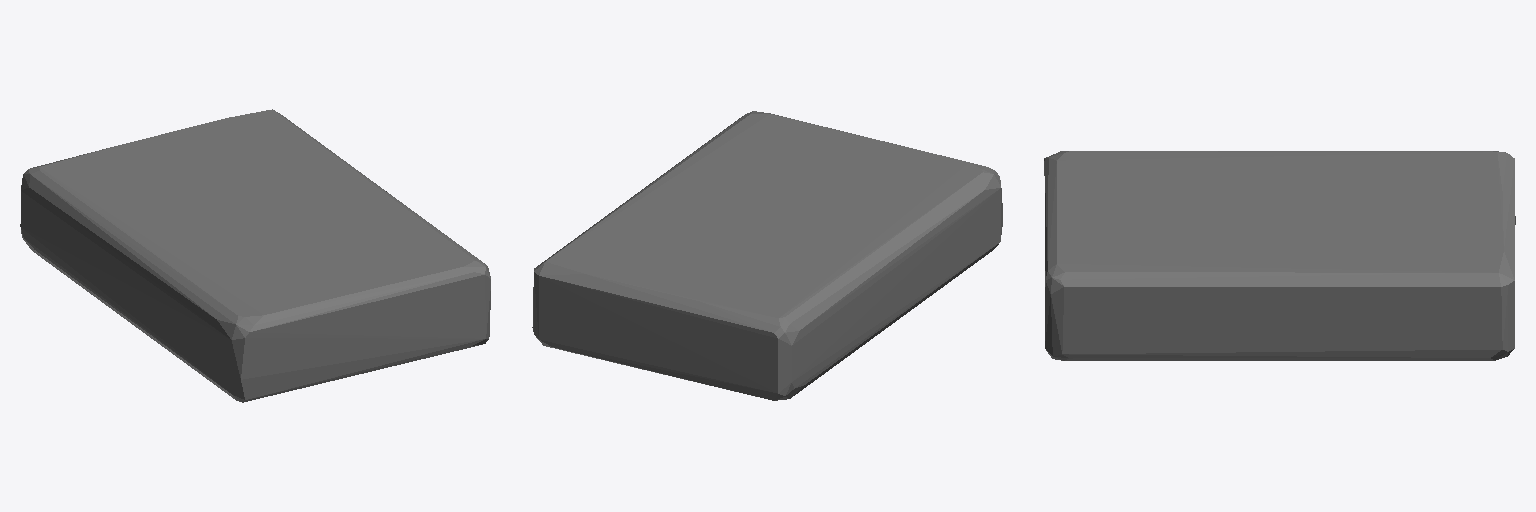
robot.urdf — book_011:
<?xml version="1.0" ?>
<robot name="book_011">
  <material name="color">
    <color rgba=".5 .5 .5 1"/>
  </material>

  <link name="base_link">
    <contact>
      <lateral_friction value="1.0"/>
      <rolling_friction value="0.001"/>
      <spinning_friction value="0.001"/>
      <inertia_scaling value="1.0"/>
    </contact>
    <inertial>
      <origin rpy="0 0 0" xyz="0.000430744 0.00032913 -1.56914e-05"/>
       <mass value="0.1"/>
       <inertia ixx="1" ixy="0" ixz="0" iyy="1" iyz="0" izz="1"/>
    </inertial>

    <visual>
      <origin rpy="0 0 0" xyz="0 0 0"/>
      <geometry>
        <mesh filename="book_011_vhacd_0_of_1.obj" scale="1 1 1"/>
      </geometry>
      <material name="color"/>
    </visual>

    <collision>
      <origin rpy="0 0 0" xyz="0 0 0"/>
      <geometry>
        <mesh filename="book_011_vhacd_0_of_1.obj" scale="1 1 1"/>
      </geometry>
    </collision>

  </link>
</robot>

--- Render facts (derived) ---
Views: 3 orthographic renders of the robot side by side, from view 1: azimuth 30°, elevation 25°; view 2: azimuth 150°, elevation 25°; view 3: azimuth 270°, elevation 25°.
Model book_011 with 1 links and 0 joints (none), rooted at base_link, posed every joint at zero.
Visible links, largest first — view 1: base_link; view 2: base_link; view 3: base_link.
Link boxes in pixels (x1,y1,x2,y2): base_link: (20,109,490,402); base_link: (532,111,1002,400); base_link: (1044,151,1515,360).
Size in the robot's own frame: 0.1329 by 0.1964 by 0.041 metres.
1 mesh visuals loaded from 1 distinct referenced files (1 OBJ).